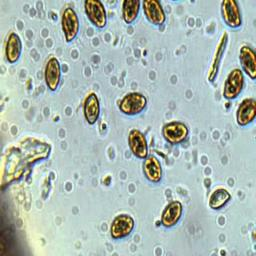Yeast: (209, 33, 228, 81), (119, 92, 148, 115), (224, 70, 244, 99), (143, 0, 165, 25), (222, 0, 242, 27), (128, 130, 147, 158), (62, 9, 78, 42), (163, 122, 188, 143), (86, 0, 106, 26), (240, 46, 256, 78), (111, 215, 133, 238), (162, 201, 182, 226), (84, 93, 100, 124), (237, 99, 256, 125), (144, 155, 162, 182), (46, 58, 60, 91), (122, 0, 140, 25), (6, 34, 21, 63), (210, 189, 230, 209)
